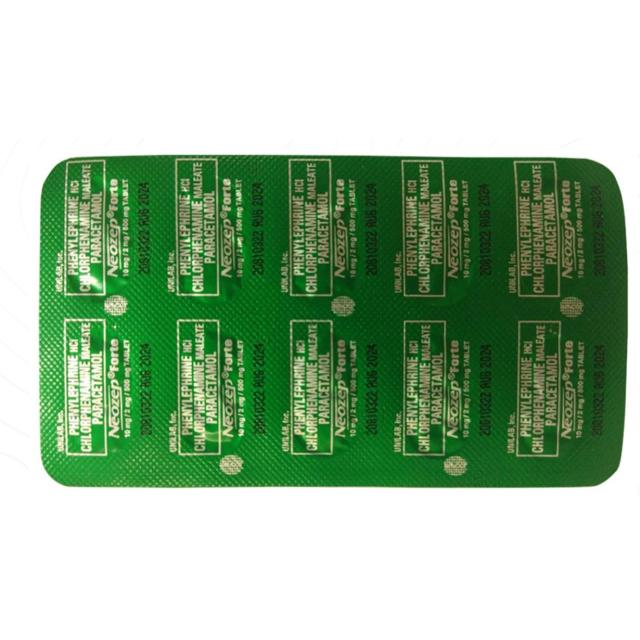blister: (35, 143, 632, 501)
